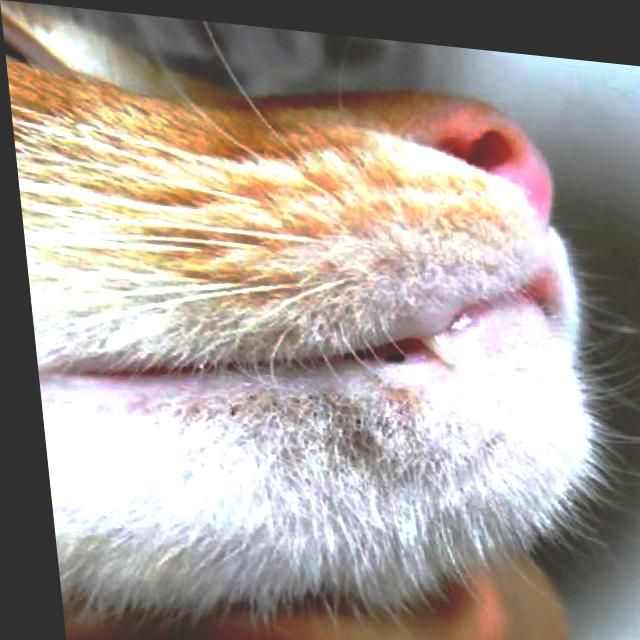acne: (227, 400, 419, 460)
